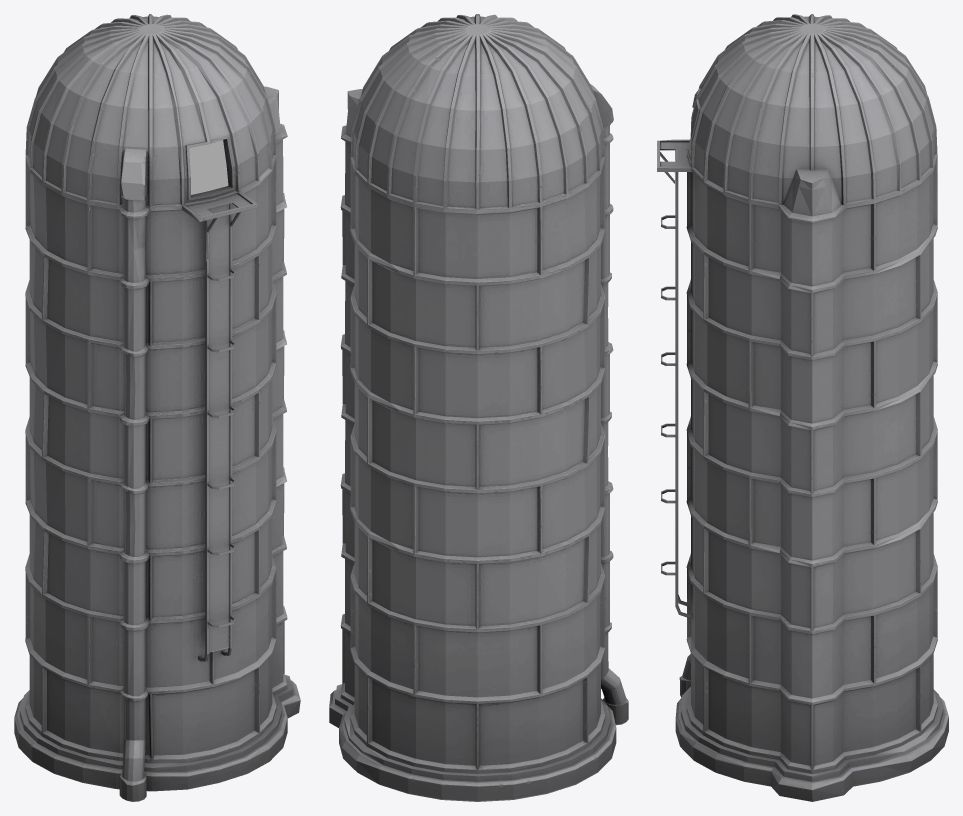
Rendered from Farm_Silo2.fbx.
The picture shows the model from 3 angles, left to right: view 1: azimuth 30°, elevation 25°; view 2: azimuth 150°, elevation 25°; view 3: azimuth 270°, elevation 25°; orthographic projection.
Parts seen in each view (by area): view 1: SM_Town_Farm_Silo_01.mo; view 2: SM_Town_Farm_Silo_01.mo; view 3: SM_Town_Farm_Silo_01.mo.
Boxes of the visible parts, x1,y1,x2,y2 form: SM_Town_Farm_Silo_01.mo: (14, 14, 300, 801); SM_Town_Farm_Silo_01.mo: (329, 14, 628, 801); SM_Town_Farm_Silo_01.mo: (657, 14, 948, 801).
Bounding box in the file's own units: 409 × 1044 × 392.
